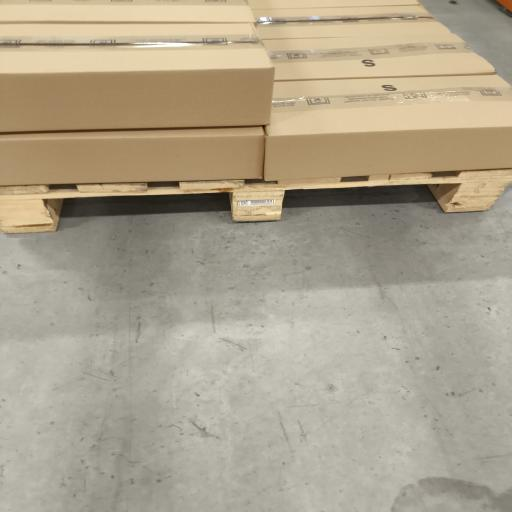pallet: (0, 170, 511, 233)
